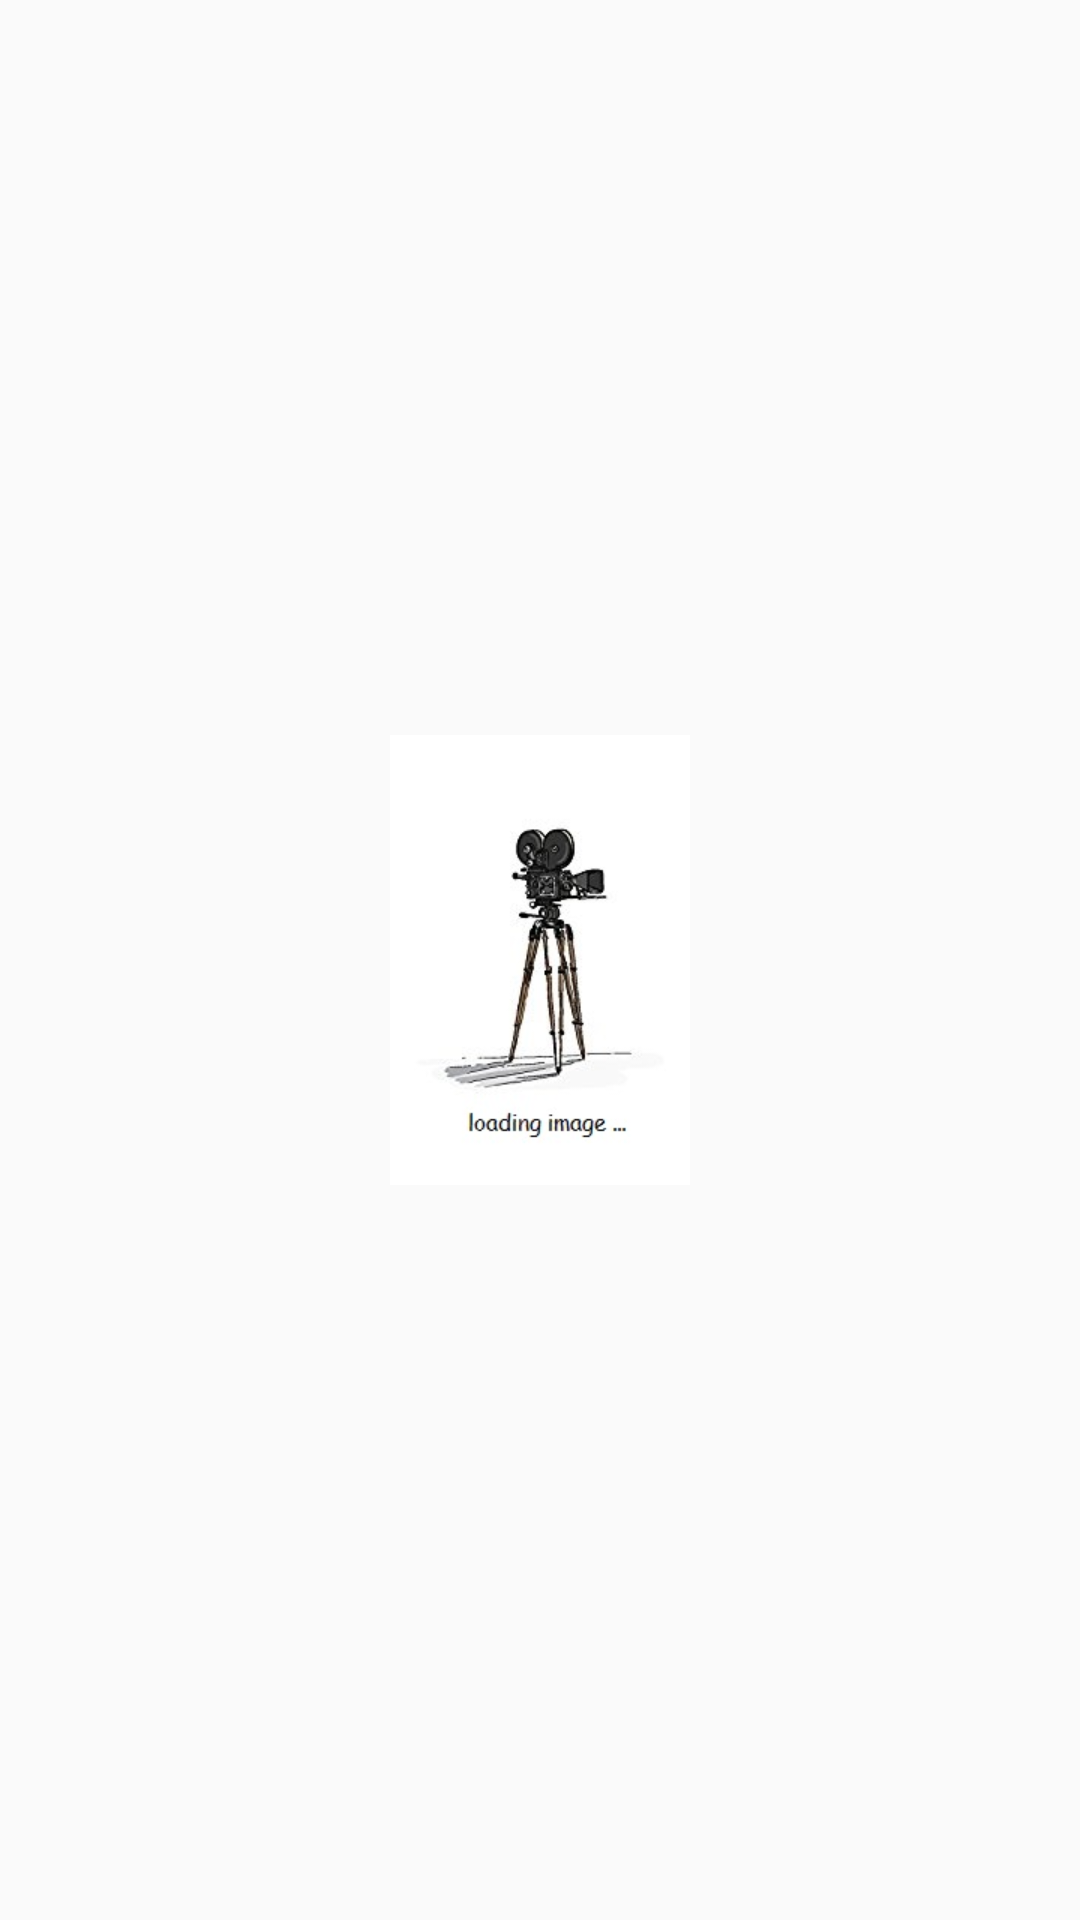

Point at icon controls on the screen. Image size 1080 × 1920, points as (x,y).
movie place holder: (538,983)
